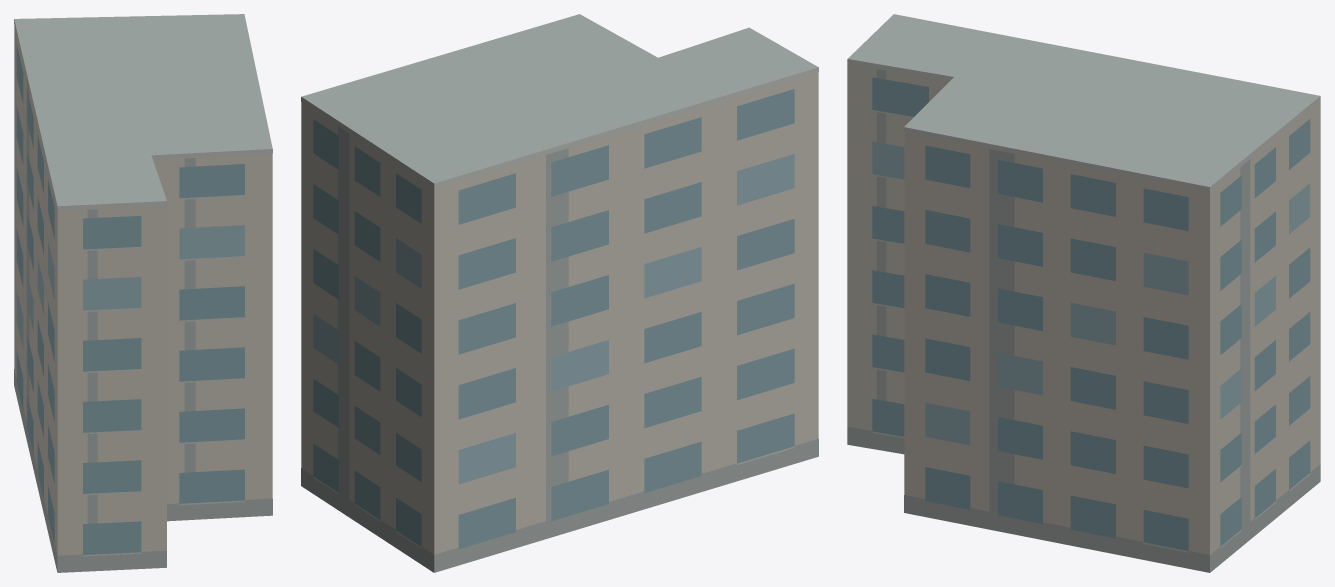
The model's file is survey-upis-32871087.glb.
The picture shows the model from 3 angles, left to right: view 1: azimuth 30°, elevation 25°; view 2: azimuth 150°, elevation 25°; view 3: azimuth 270°, elevation 25°; orthographic projection. The views are drawn at different scales.
Visible parts, largest first — view 1: survey-upis-32871087.tmp; view 2: survey-upis-32871087.tmp; view 3: survey-upis-32871087.tmp.
Boxes of the visible parts, x1,y1,x2,y2 form: survey-upis-32871087.tmp: [14, 14, 272, 572]; survey-upis-32871087.tmp: [301, 14, 818, 572]; survey-upis-32871087.tmp: [847, 14, 1320, 572].
Size of the model in its own units: 17.62 by 18.3 by 20.35.
